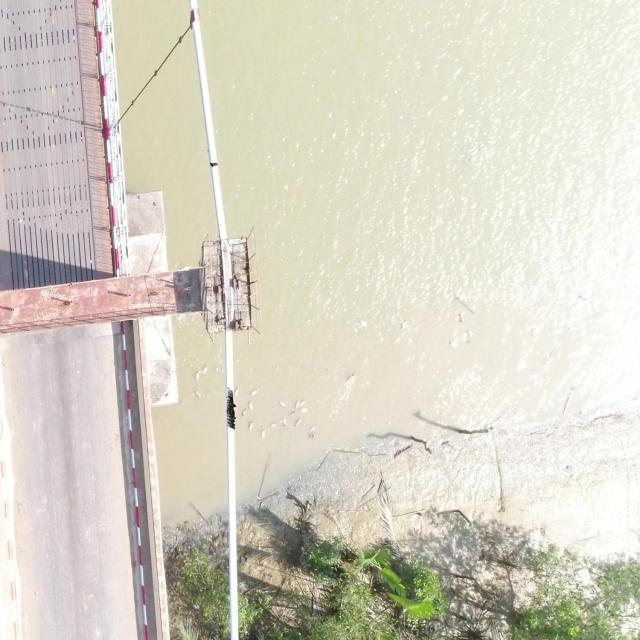corrosion: (225, 388, 237, 430), (210, 162, 218, 168)
